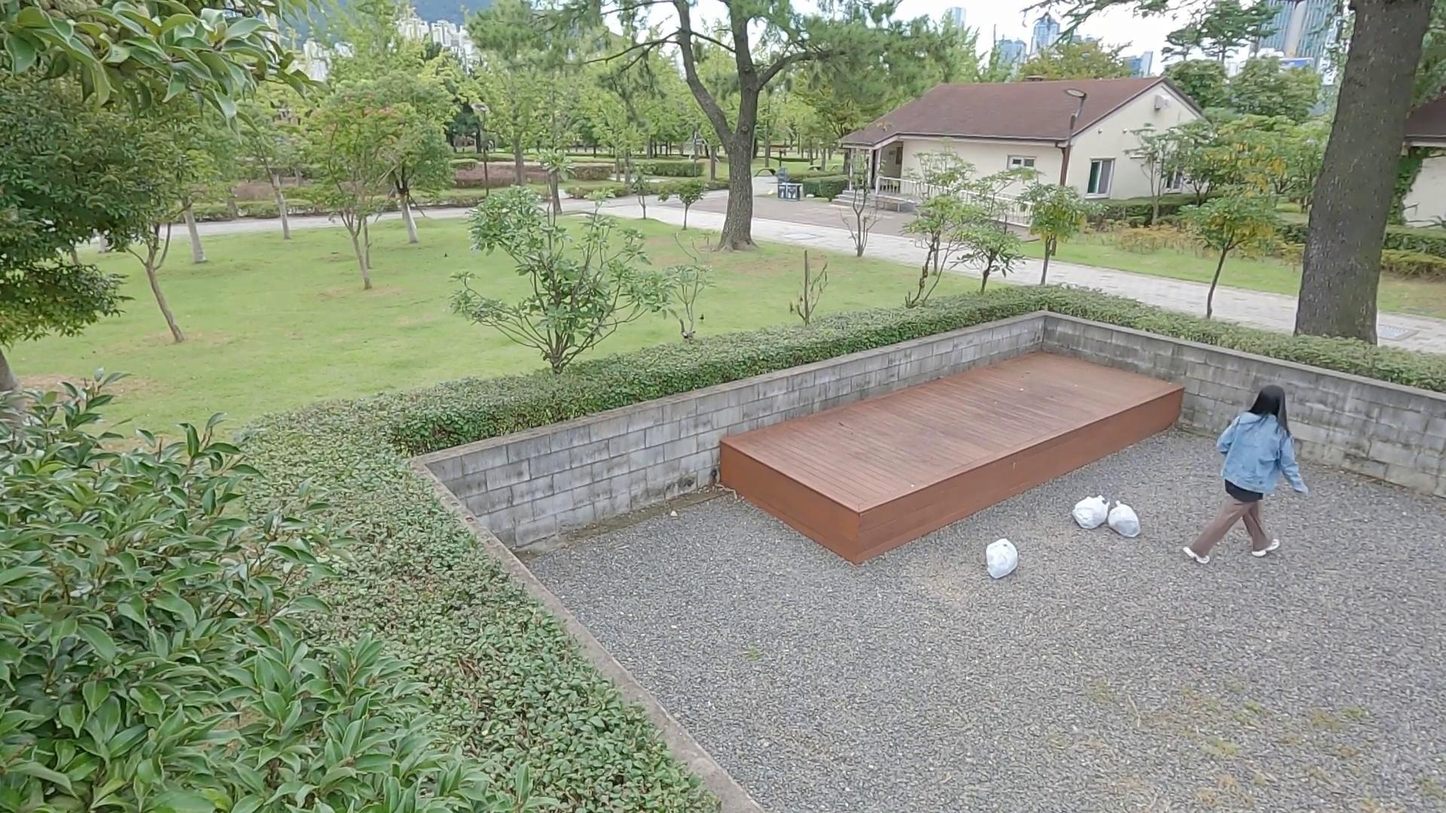person: (1182, 379, 1308, 566)
trash: (1106, 497, 1145, 543), (983, 538, 1019, 583), (1072, 494, 1113, 531)
